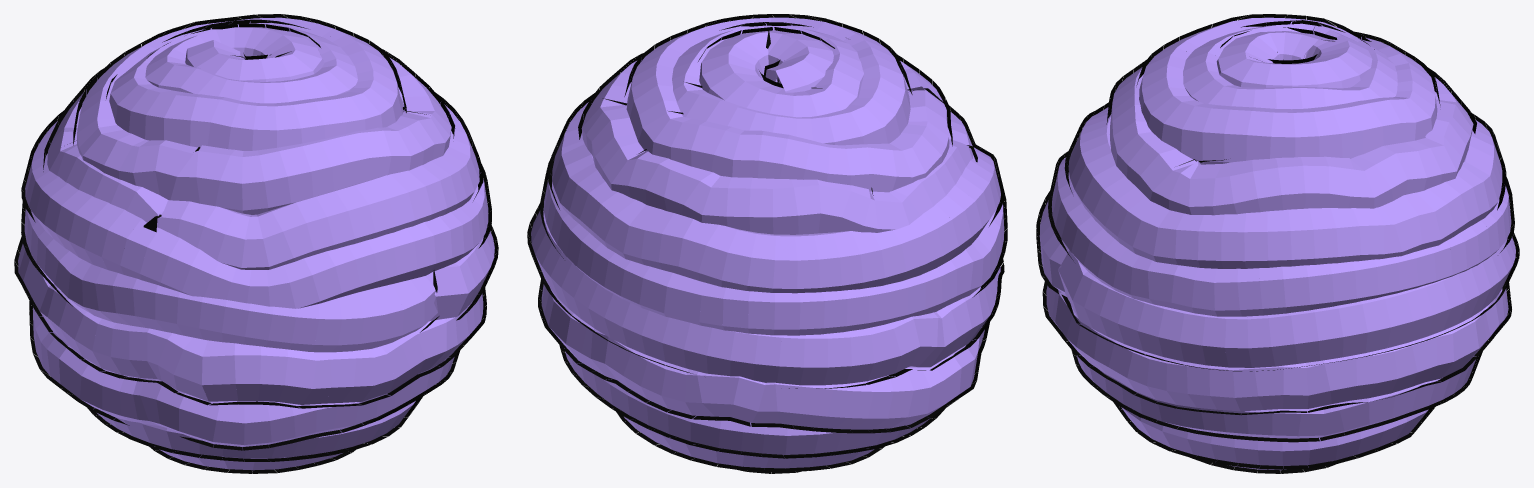
File: PlayerYarn_2.fbx
3 renders of one model, left to right at view 1: azimuth 30°, elevation 25°; view 2: azimuth 150°, elevation 25°; view 3: azimuth 270°, elevation 25°, orthographic.
Parts seen in each view (by area): view 1: Cylinder.001; view 2: Cylinder.001; view 3: Cylinder.001.
Boxes of the visible parts, x1=… form: Cylinder.001: x1=14, y1=14, x2=498, y2=473; Cylinder.001: x1=527, y1=14, x2=1007, y2=473; Cylinder.001: x1=1036, y1=14, x2=1519, y2=473.
Bounding box in the file's own units: 252 × 237 × 255.
